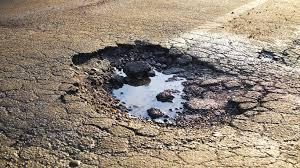alligator-crack: (73, 116, 298, 165), (1, 45, 86, 168), (211, 42, 300, 115)
pothole: (65, 38, 252, 127)
